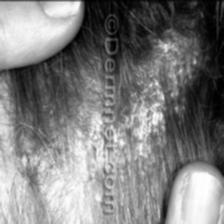Non-Cancerous Skin Condition: (132, 14, 202, 154), (20, 127, 54, 174), (158, 28, 176, 55), (94, 142, 105, 174)
